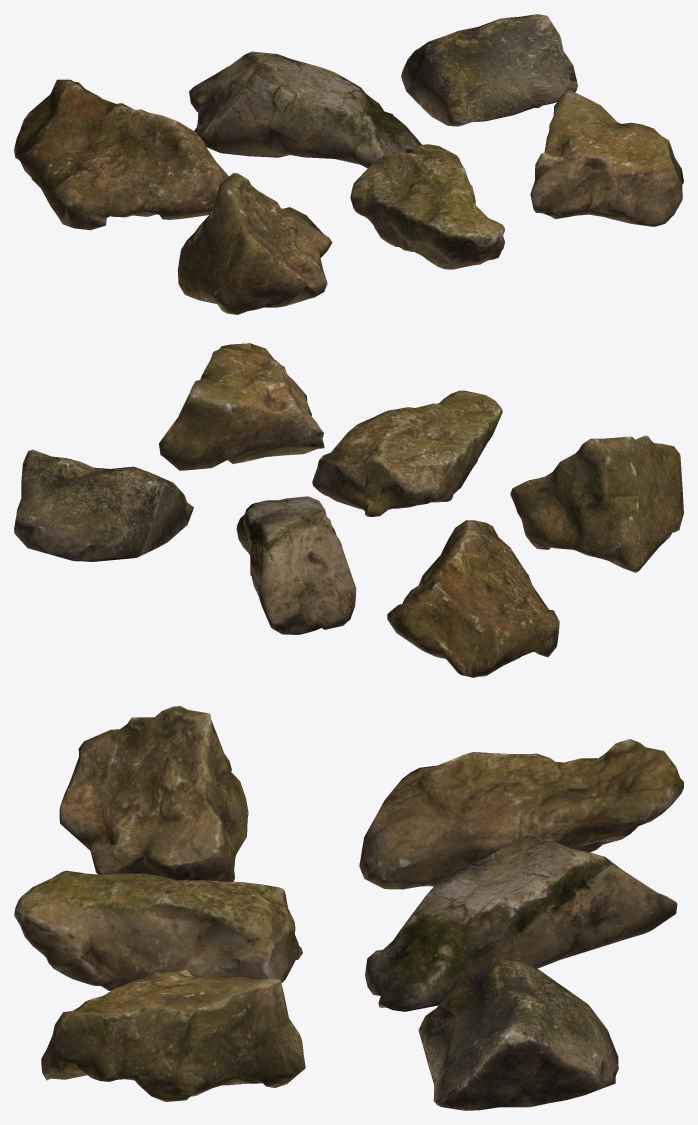
The model's file is rock_moss_set_01.glb.
3 views of the same model, one above another, from view 1: azimuth 30°, elevation 25°; view 2: azimuth 150°, elevation 25°; view 3: azimuth 270°, elevation 25° (orthographic). The views are drawn at different scales.
Visible parts, largest first — view 1: rock_moss_set_01_rock01, rock_moss_set_01_rock02, rock_moss_set_01_rock06, rock_moss_set_01_rock04, rock_moss_set_01_rock03, rock_moss_set_01_rock05; view 2: rock_moss_set_01_rock04, rock_moss_set_01_rock01, rock_moss_set_01_rock05, rock_moss_set_01_rock03, rock_moss_set_01_rock06, rock_moss_set_01_rock02; view 3: rock_moss_set_01_rock01, rock_moss_set_01_rock02, rock_moss_set_01_rock05, rock_moss_set_01_rock04, rock_moss_set_01_rock06, rock_moss_set_01_rock03.
Part boxes in pixels (left/top/right/bottom): rock_moss_set_01_rock01: left=14, top=79, right=228, bottom=230; rock_moss_set_01_rock02: left=189, top=51, right=421, bottom=168; rock_moss_set_01_rock06: left=530, top=89, right=683, bottom=226; rock_moss_set_01_rock04: left=177, top=173, right=332, bottom=314; rock_moss_set_01_rock03: left=401, top=14, right=577, bottom=126; rock_moss_set_01_rock05: left=350, top=144, right=504, bottom=269; rock_moss_set_01_rock04: left=510, top=435, right=683, bottom=572; rock_moss_set_01_rock01: left=387, top=520, right=559, bottom=677; rock_moss_set_01_rock05: left=312, top=390, right=502, bottom=516; rock_moss_set_01_rock03: left=14, top=449, right=193, bottom=561; rock_moss_set_01_rock06: left=159, top=343, right=324, bottom=470; rock_moss_set_01_rock02: left=236, top=496, right=356, bottom=634; rock_moss_set_01_rock01: left=359, top=739, right=683, bottom=889; rock_moss_set_01_rock02: left=365, top=835, right=677, bottom=1011; rock_moss_set_01_rock05: left=14, top=870, right=302, bottom=990; rock_moss_set_01_rock04: left=59, top=706, right=248, bottom=881; rock_moss_set_01_rock06: left=41, top=969, right=305, bottom=1101; rock_moss_set_01_rock03: left=418, top=958, right=618, bottom=1110.
Size of the model in its own units: 8 by 1.76 by 6.94.
Materials: 1 (1 with a texture image).
